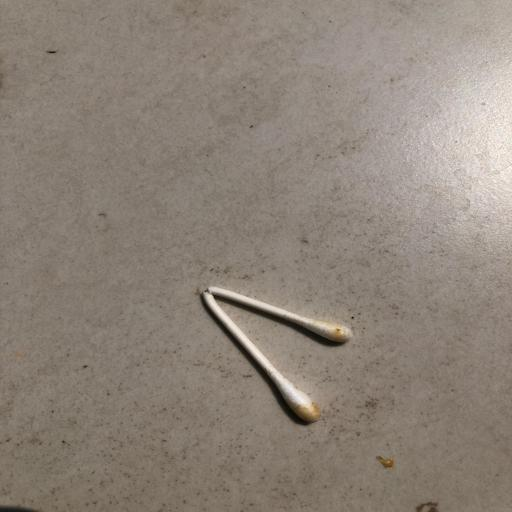waste: (192, 273, 384, 429)
